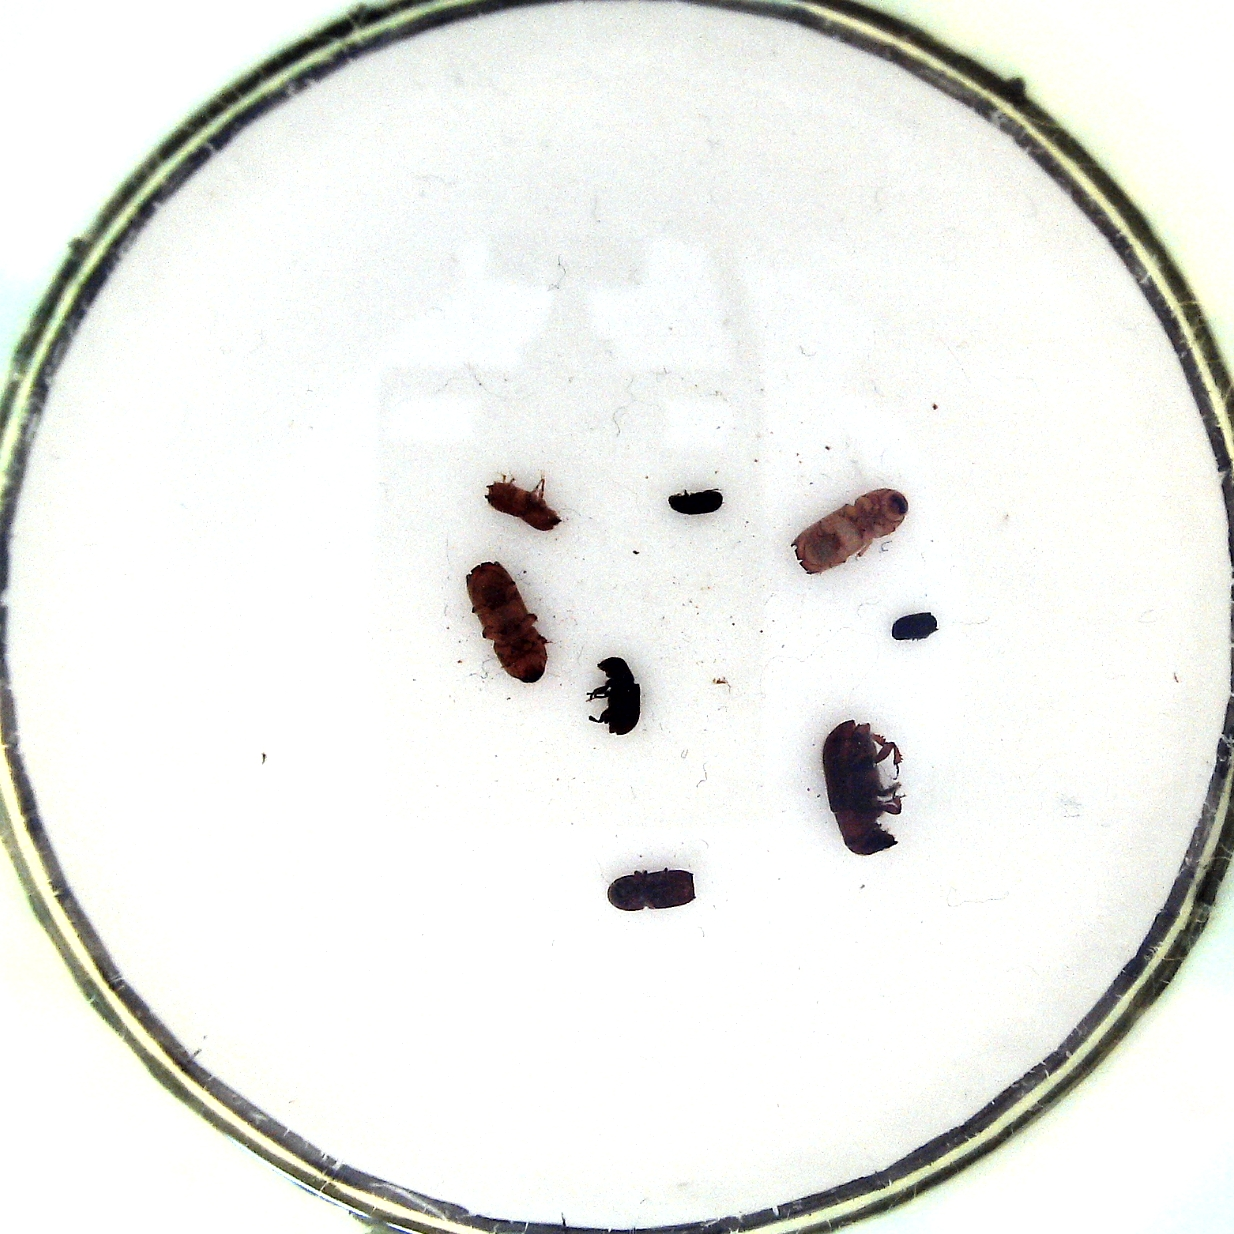Boerner: (460, 555, 557, 687), (790, 483, 911, 574)
Leconte: (814, 714, 919, 860)
Linnaeus: (602, 864, 701, 912)
acuminatus: (483, 469, 563, 538)
armandi: (583, 658, 648, 744)
coleoptera: (670, 484, 732, 528), (886, 601, 938, 650)
